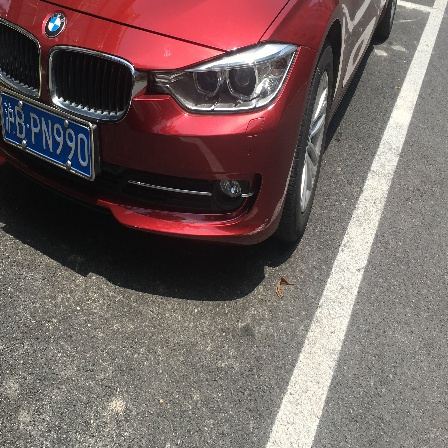plate: (2, 92, 95, 179)
